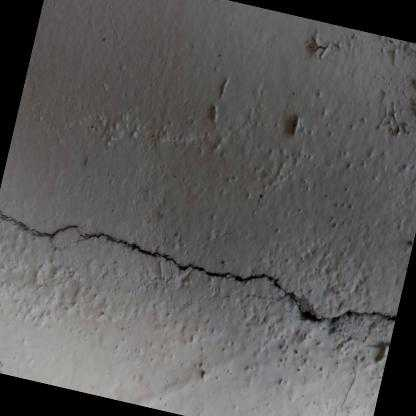crack: (0, 210, 396, 320)
